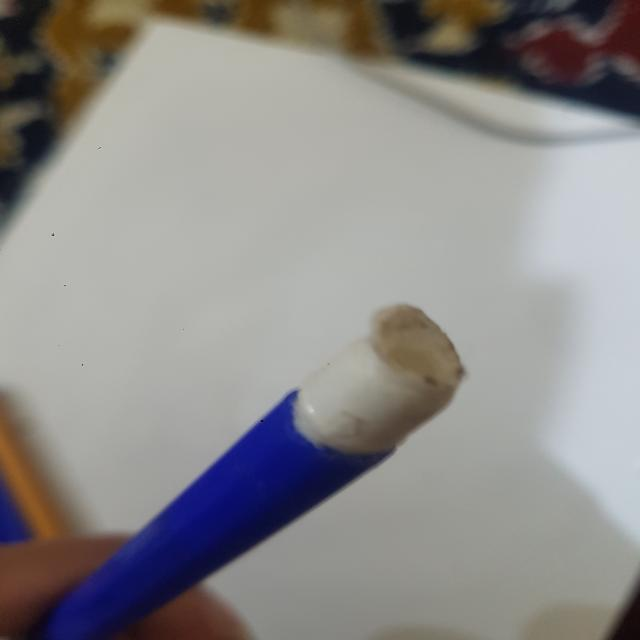general: (35, 301, 468, 638)
